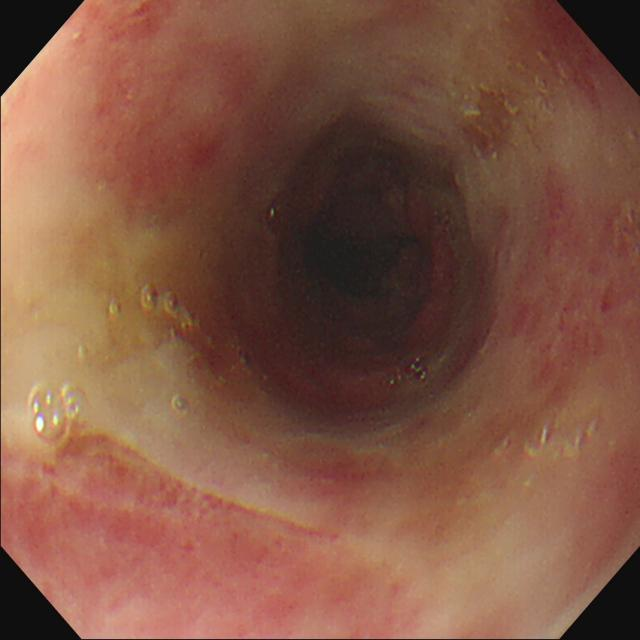A: (2, 429, 398, 640), (85, 2, 246, 208), (503, 167, 640, 398), (464, 29, 586, 163)
T: (28, 376, 91, 449)
